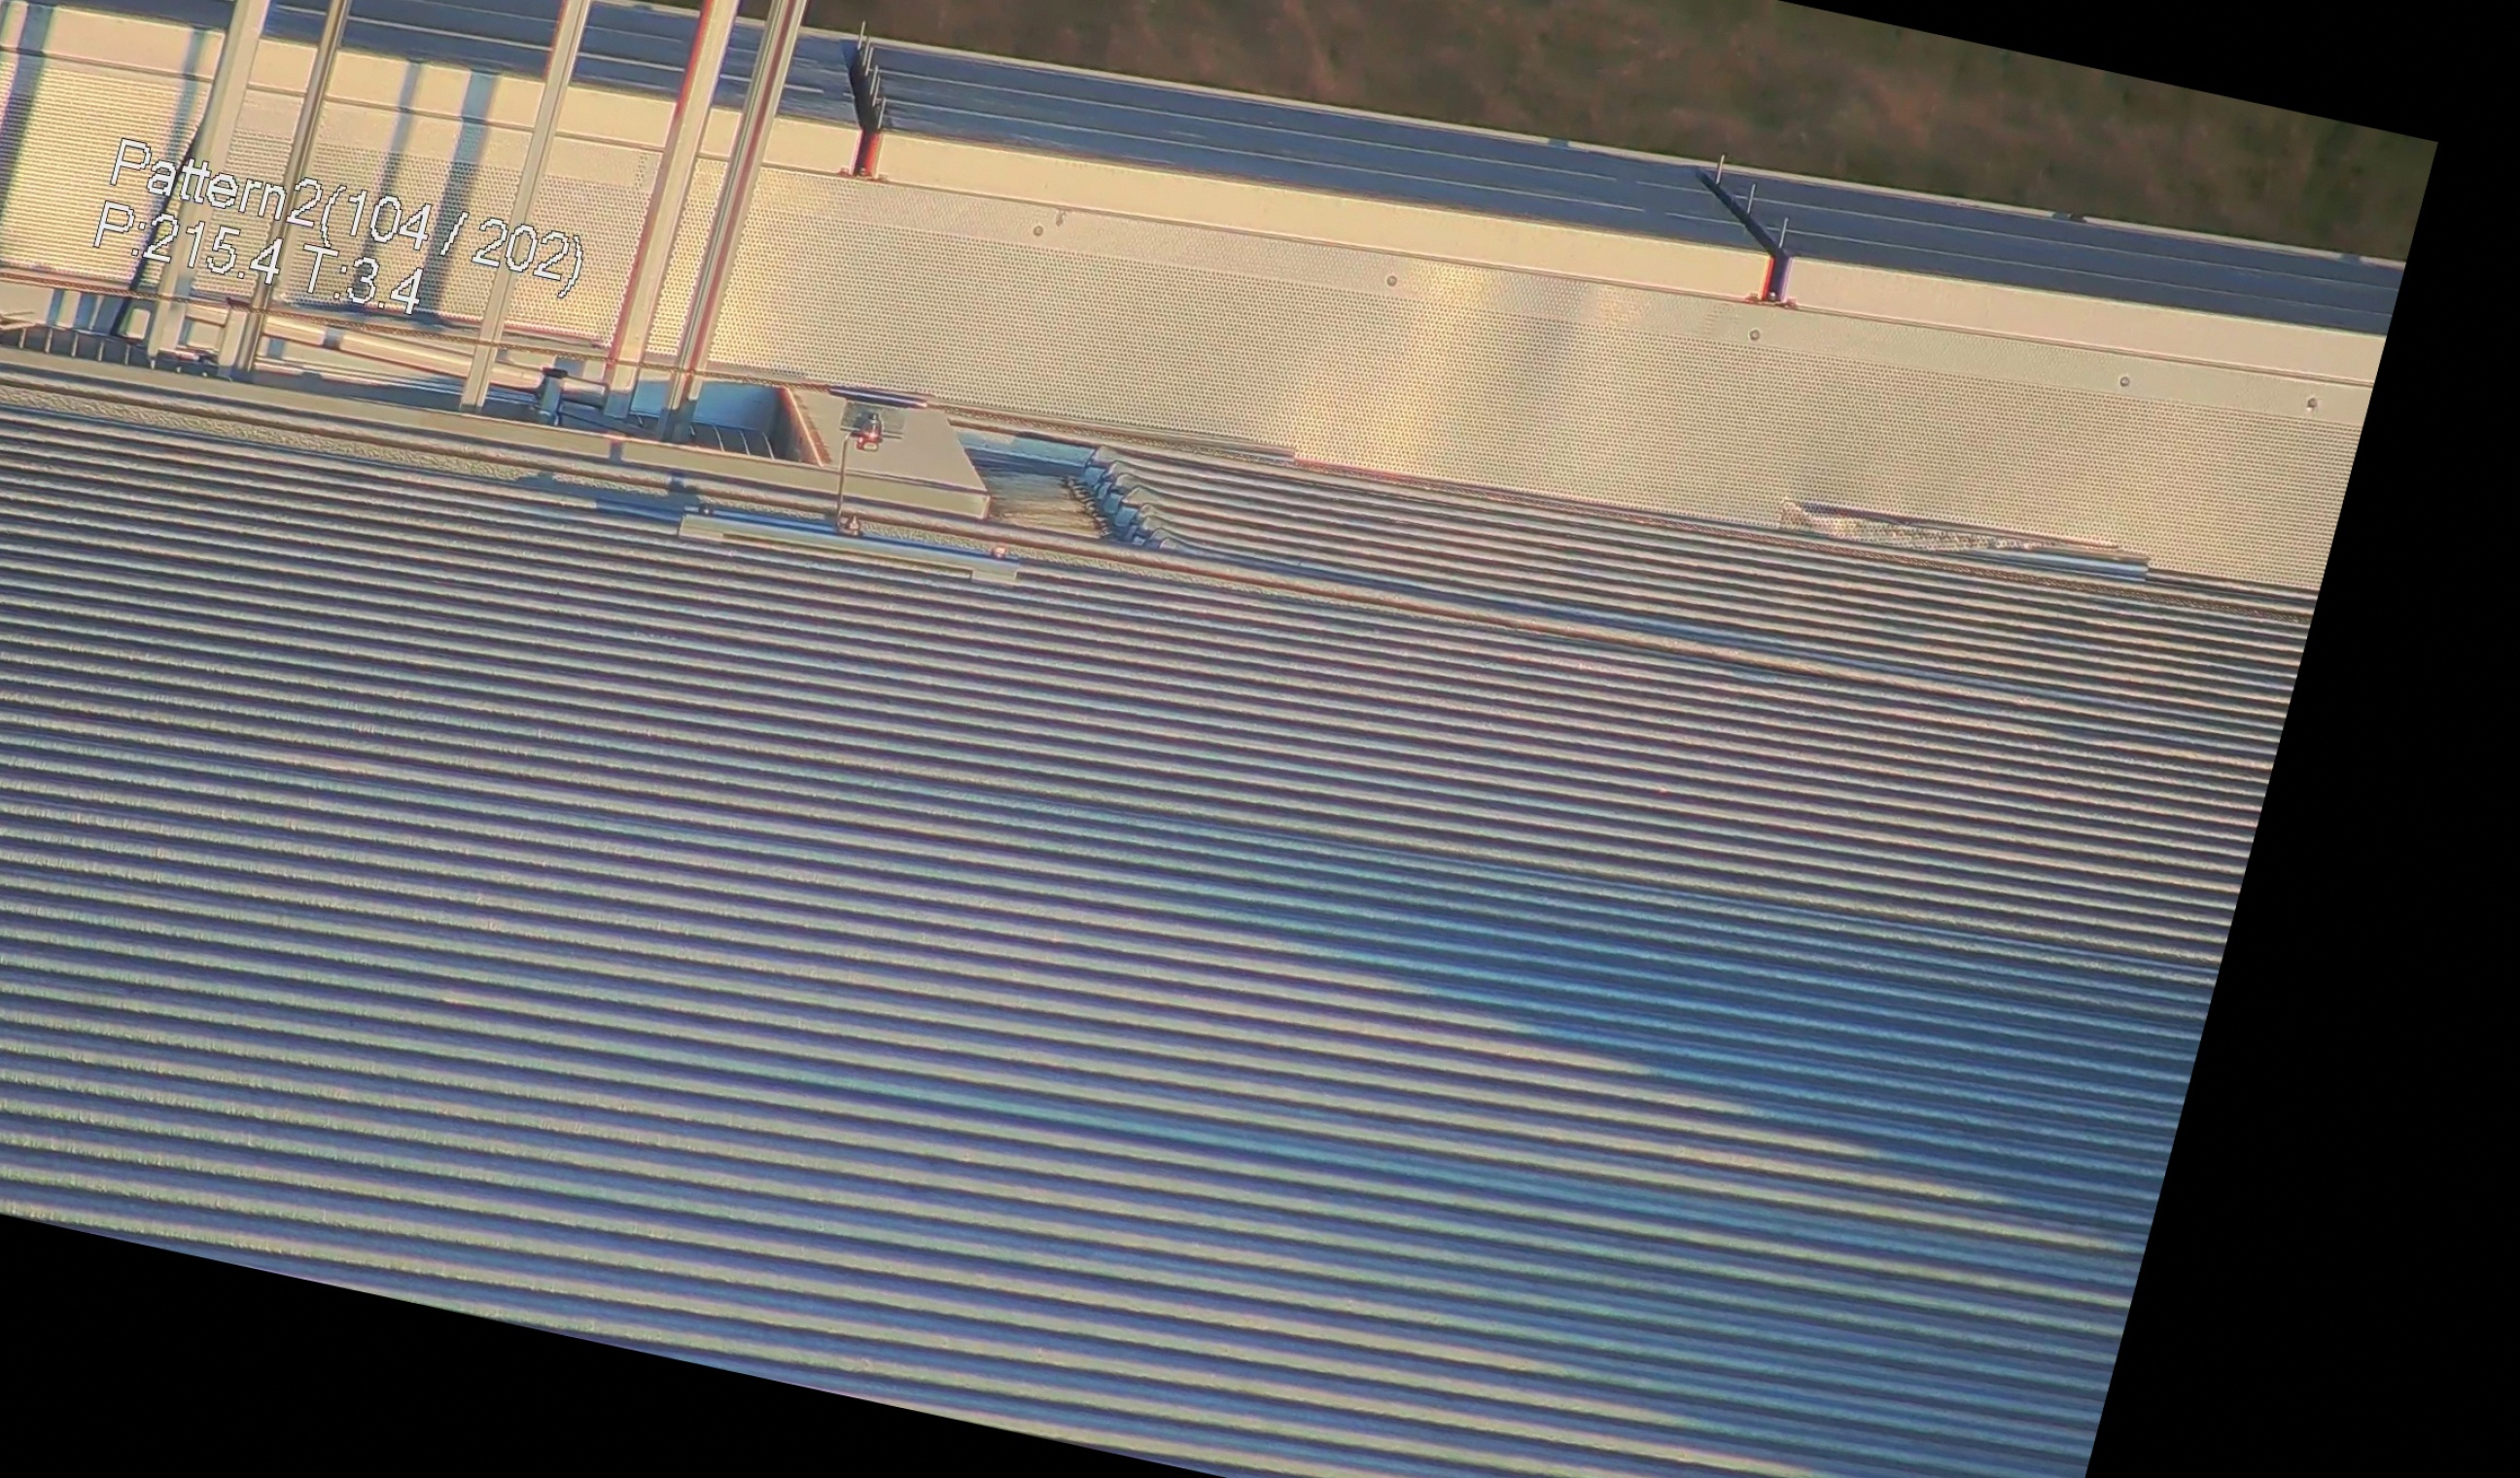Other: (798, 7, 932, 187)
